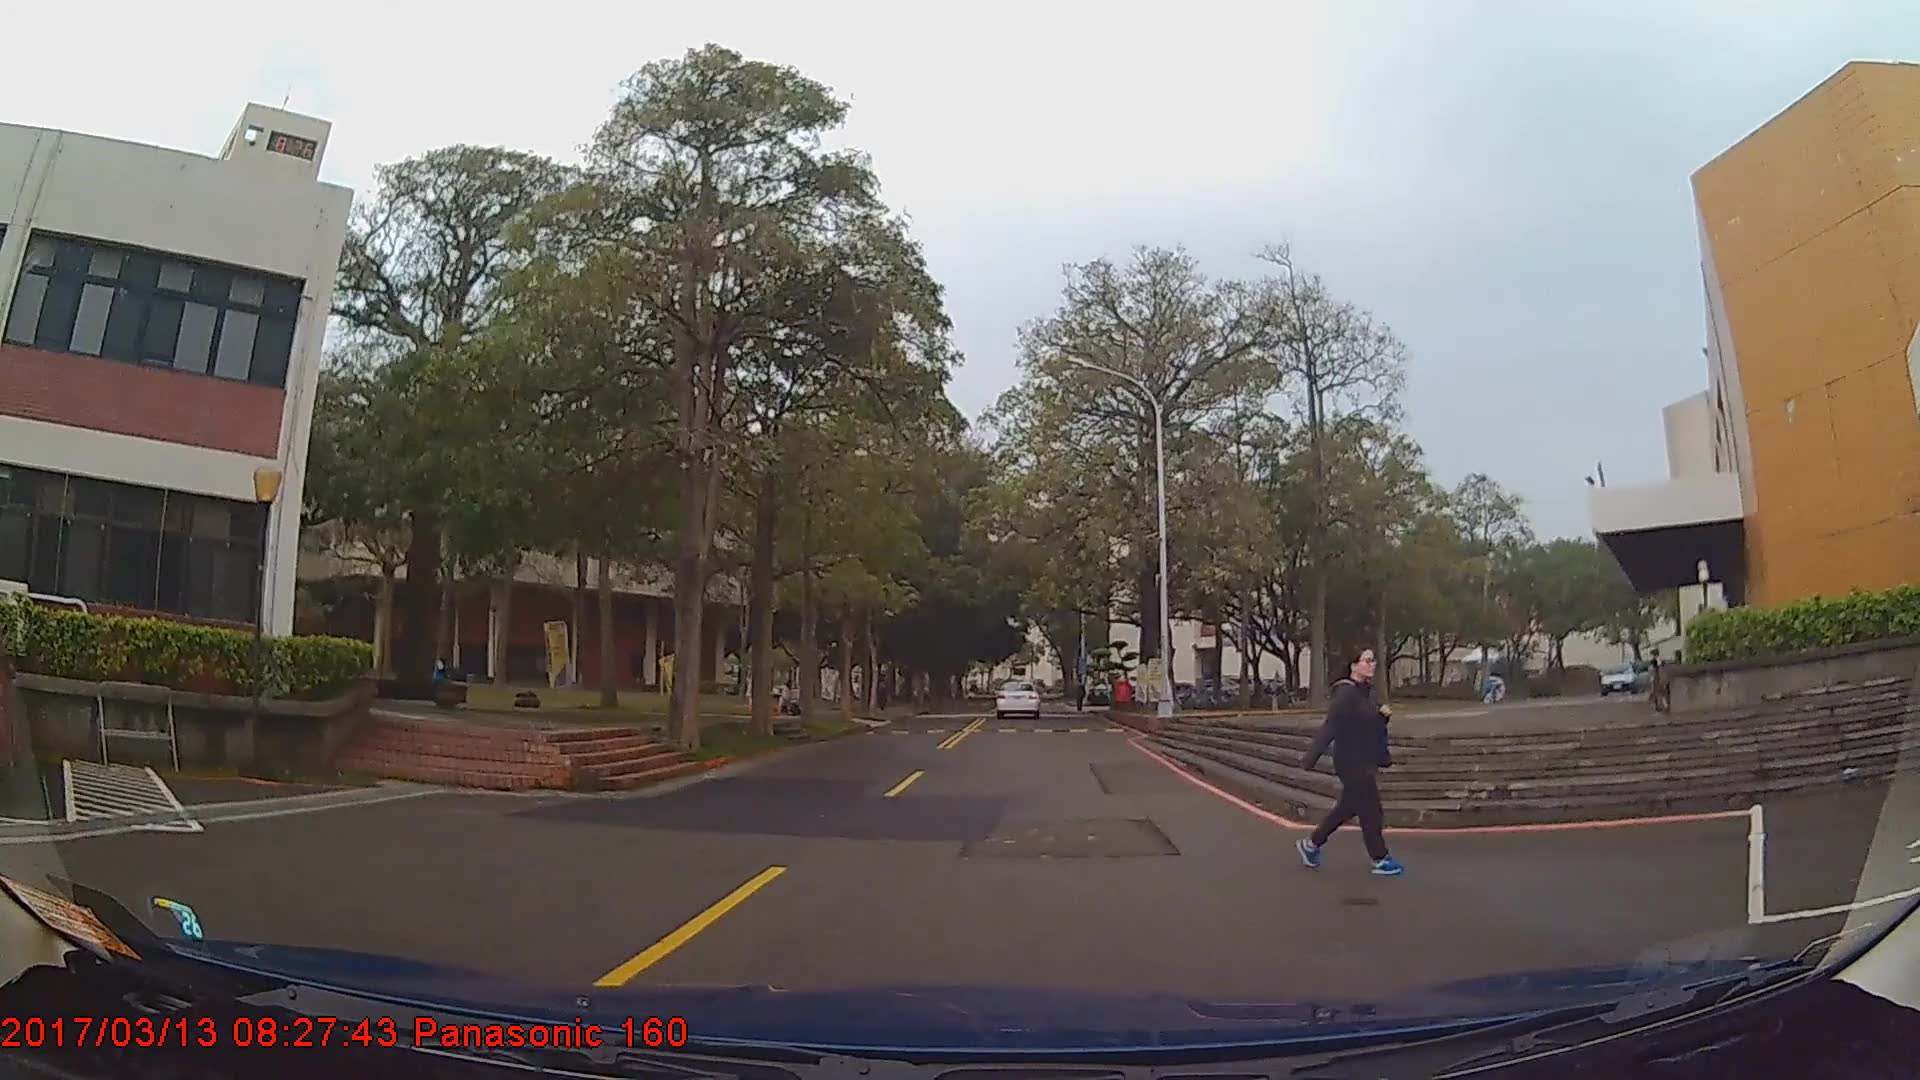pedestrian: (1300, 641, 1406, 874)
vehicle: (993, 680, 1040, 721)
